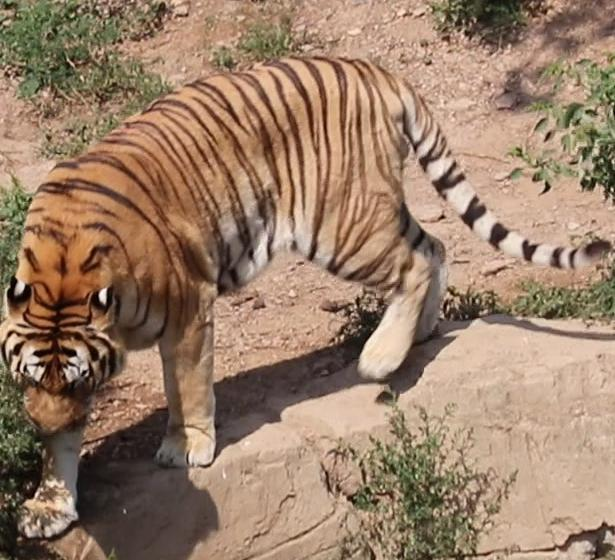tiger: (0, 56, 609, 538)
